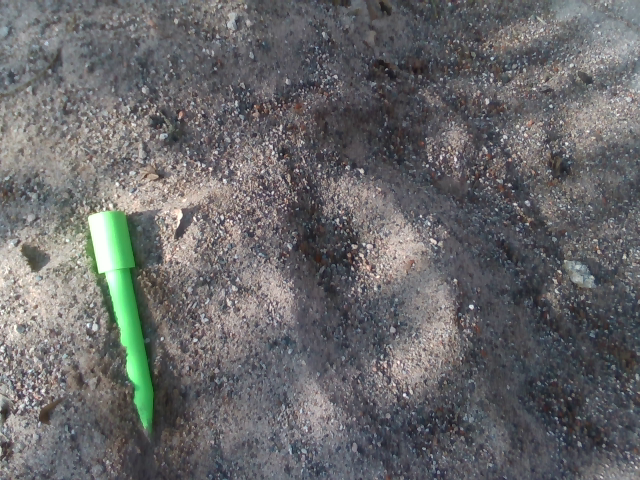Probe: (83, 200, 162, 449)
